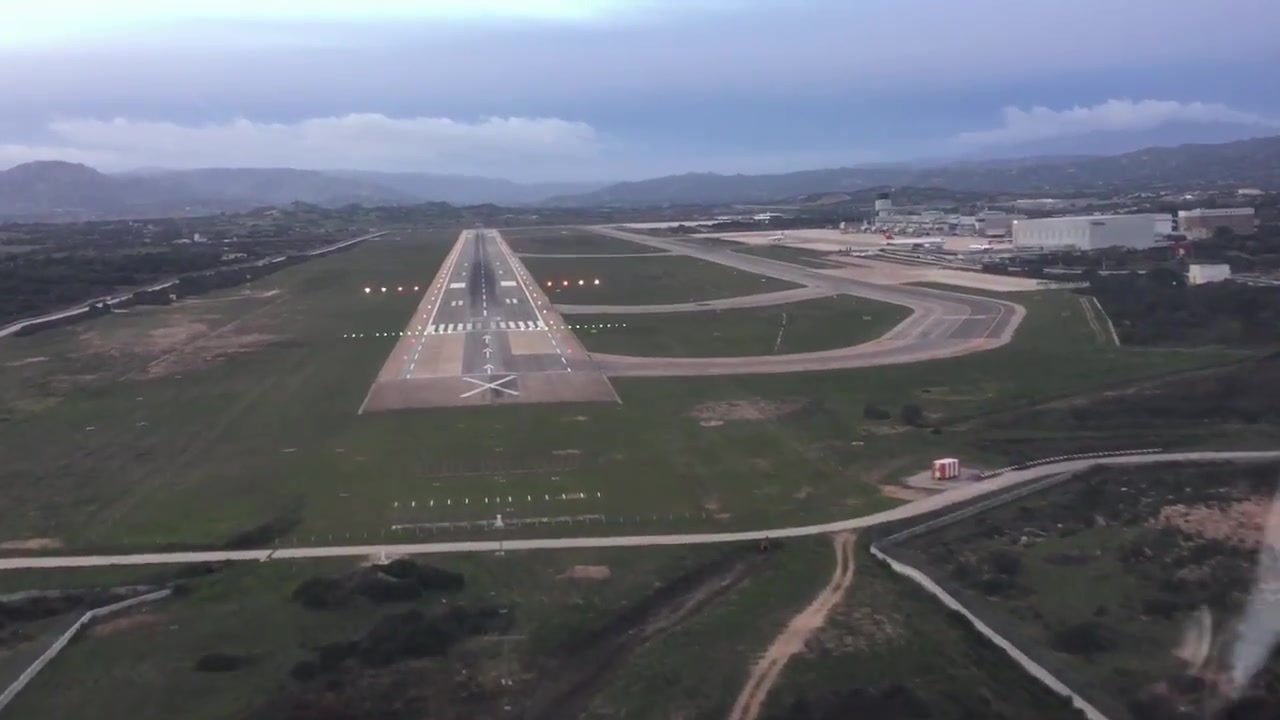entrance: (429, 319, 545, 333)
runway: (357, 231, 617, 410)
